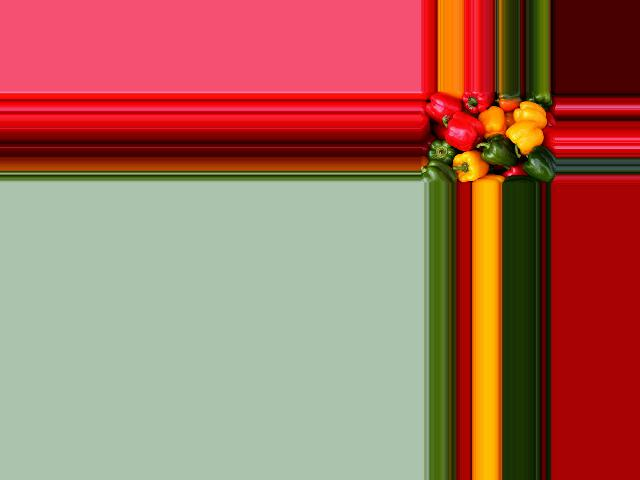bell_pepper: (521, 91, 551, 107)
